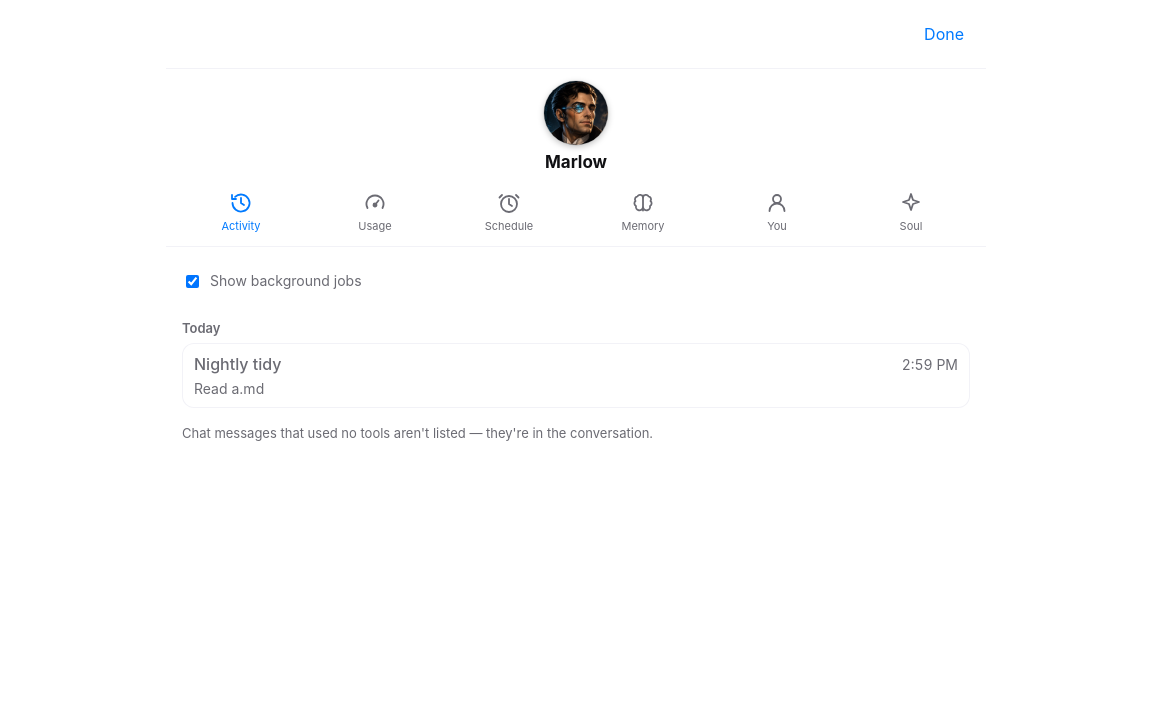
it: background jobs › fetch what the job said on expand, once
Click the button "Nightly tidy 2:59 PM Read a.md" at (238, 364), box left=182, top=343, right=970, bottom=408
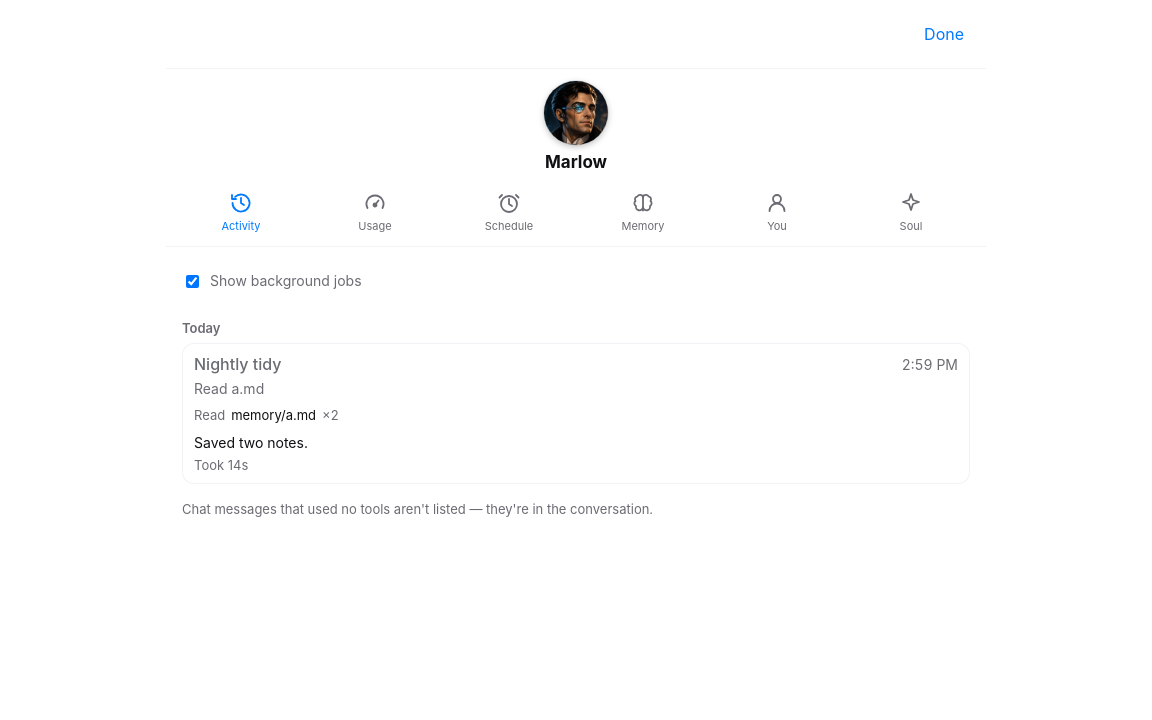
Expected: the text "Saved two notes." is shown, left=194, top=434, right=308, bottom=450
Expected: the text "×2" is shown, left=322, top=406, right=339, bottom=425
Click the button "Nightly tidy" at (238, 364), box left=182, top=343, right=970, bottom=484
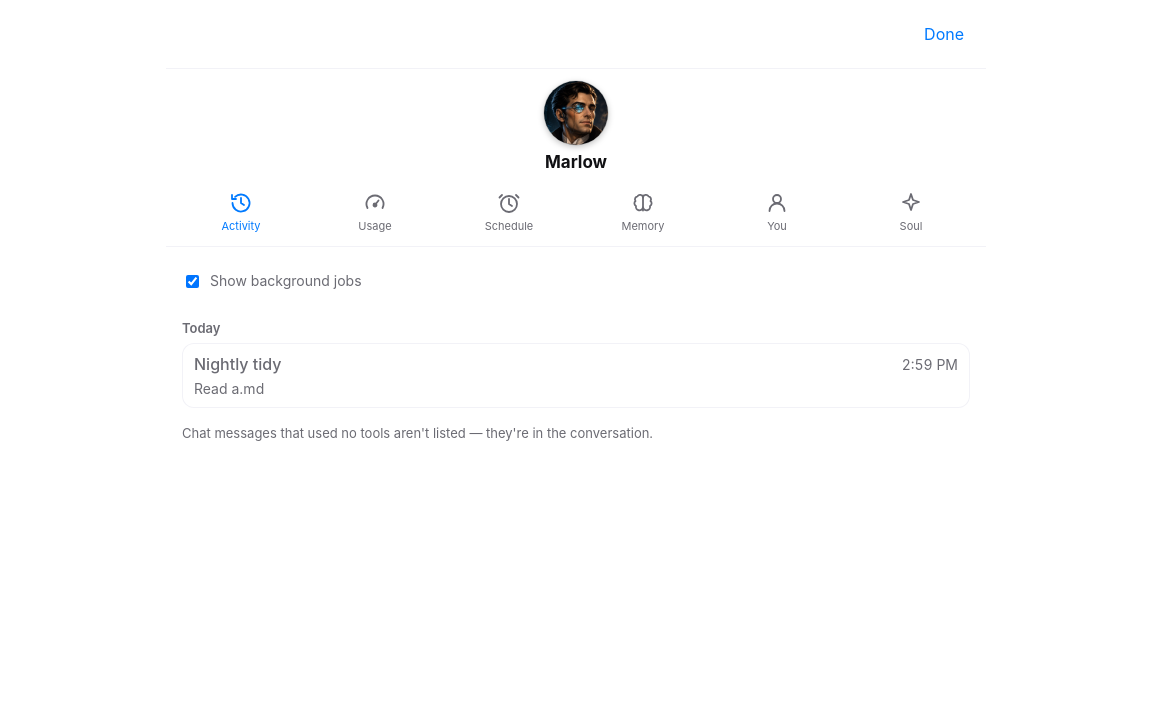
Click the button "Nightly tidy 2:59 PM Read a.md" at (238, 364), box left=182, top=343, right=970, bottom=408
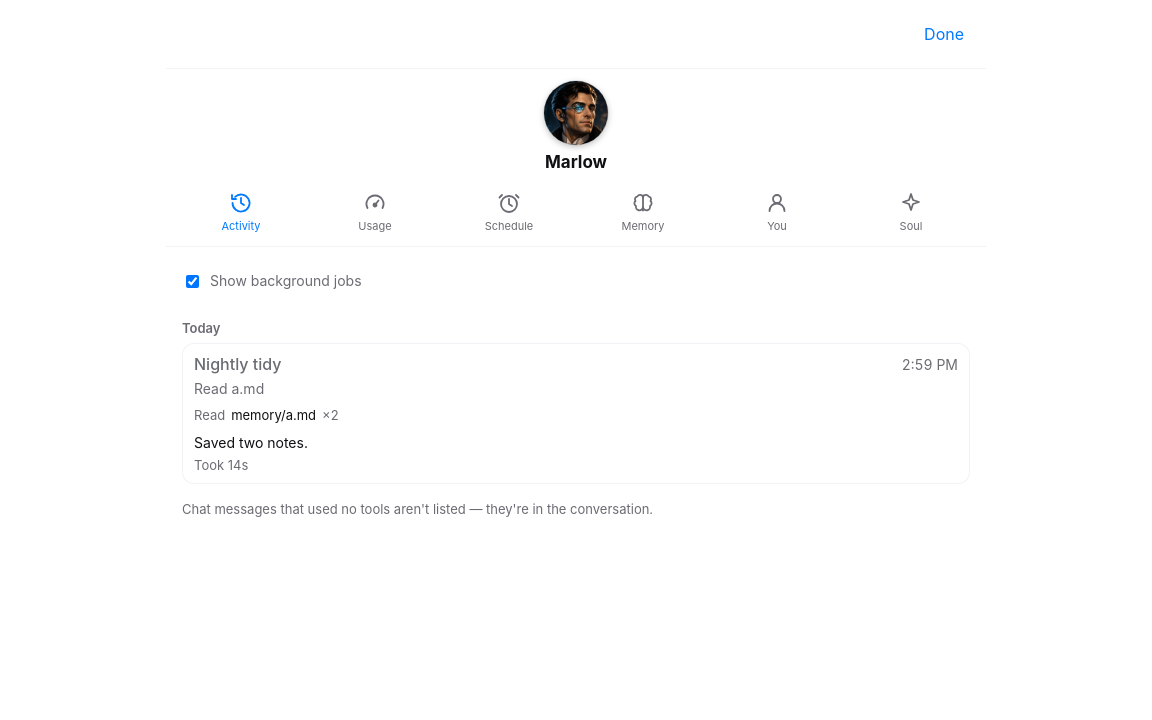
Expected: the text "Saved two notes." is shown, left=194, top=434, right=308, bottom=450
